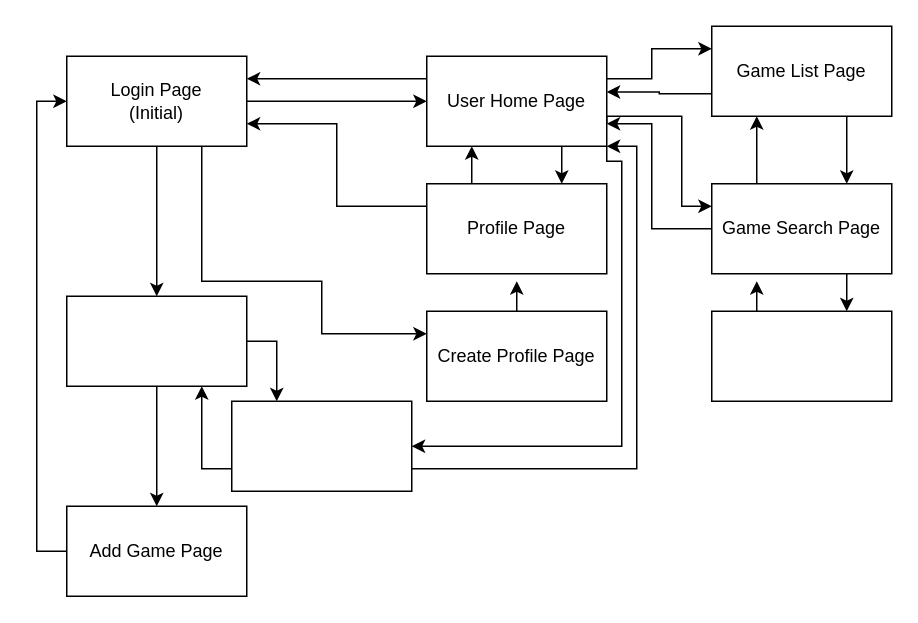
This 918x623 diagram has some shape labels left out. The box of each missing label's shape, as (x1, y1, x2, y2) in pixels:
Admin Page: (65, 295, 247, 386)
Game Filter Page: (710, 310, 892, 401)
Suggestions Page: (230, 400, 412, 491)
